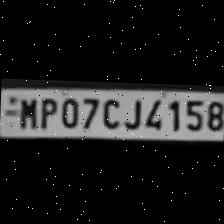0: (56, 93, 79, 128)
1: (162, 96, 180, 132)
4: (140, 95, 164, 130)
5: (180, 95, 204, 131)
7: (78, 94, 98, 128)
8: (202, 97, 222, 132)
C: (97, 94, 121, 130)
J: (119, 94, 141, 129)
M: (16, 94, 36, 130)
P: (35, 94, 57, 129)
